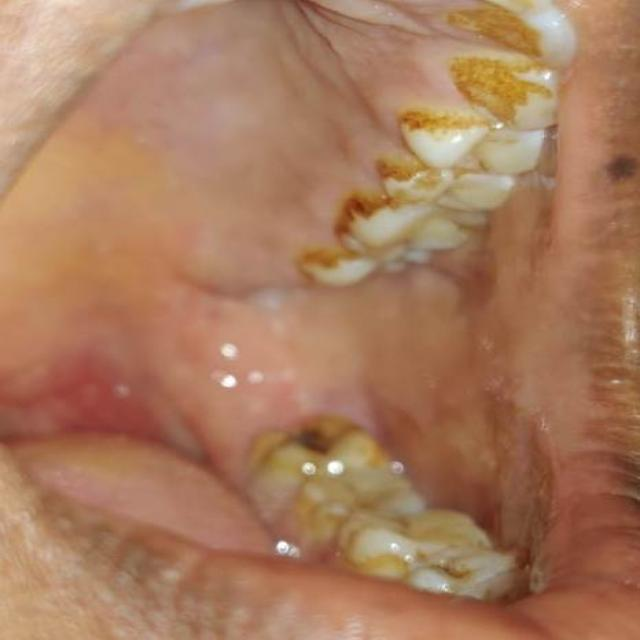Cancer: (468, 382, 603, 637)
